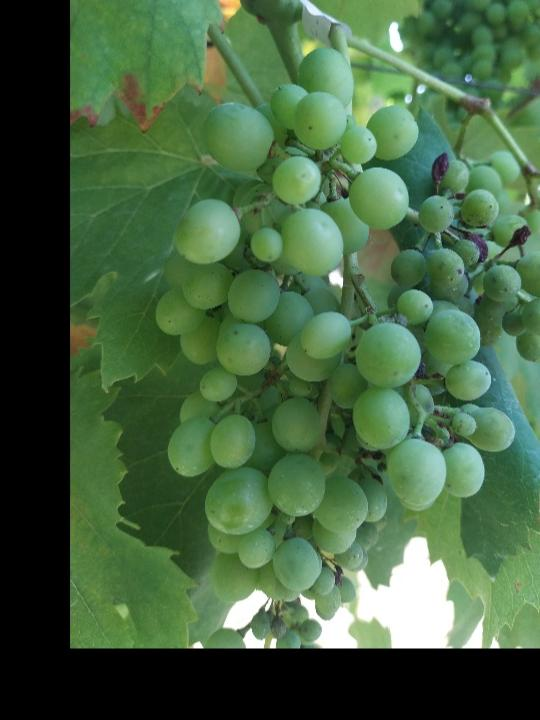grape: (153, 46, 540, 608)
